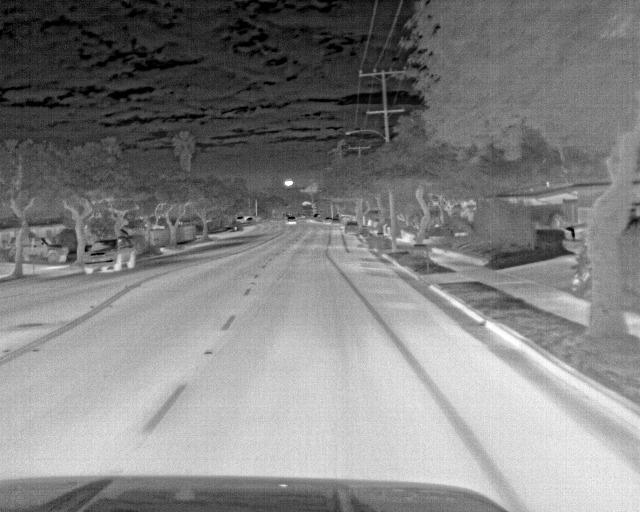car: (78, 234, 136, 276), (559, 224, 586, 257), (341, 220, 362, 236), (284, 213, 299, 225)
